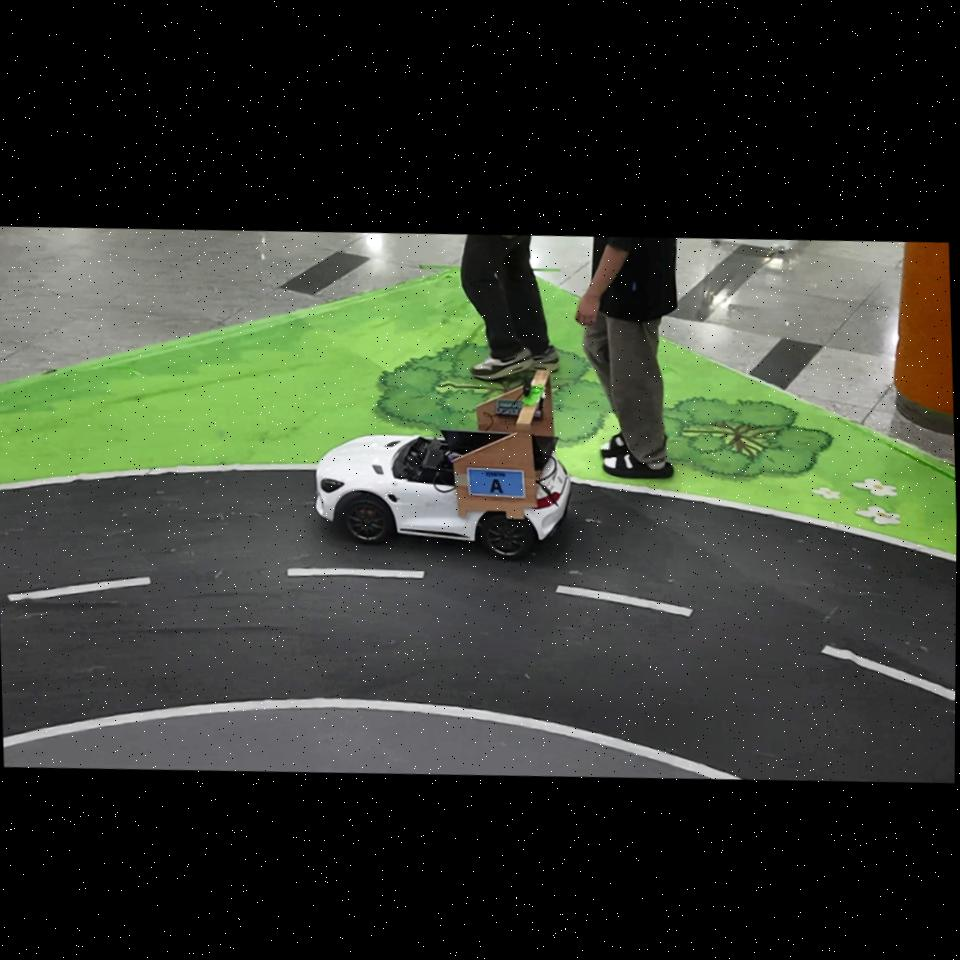broken_line: (820, 646, 955, 700), (556, 585, 692, 617), (7, 576, 151, 601), (287, 568, 425, 579)
